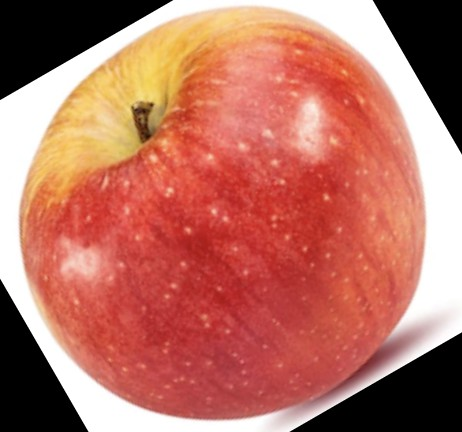fresh_apple: (19, 6, 425, 419)
